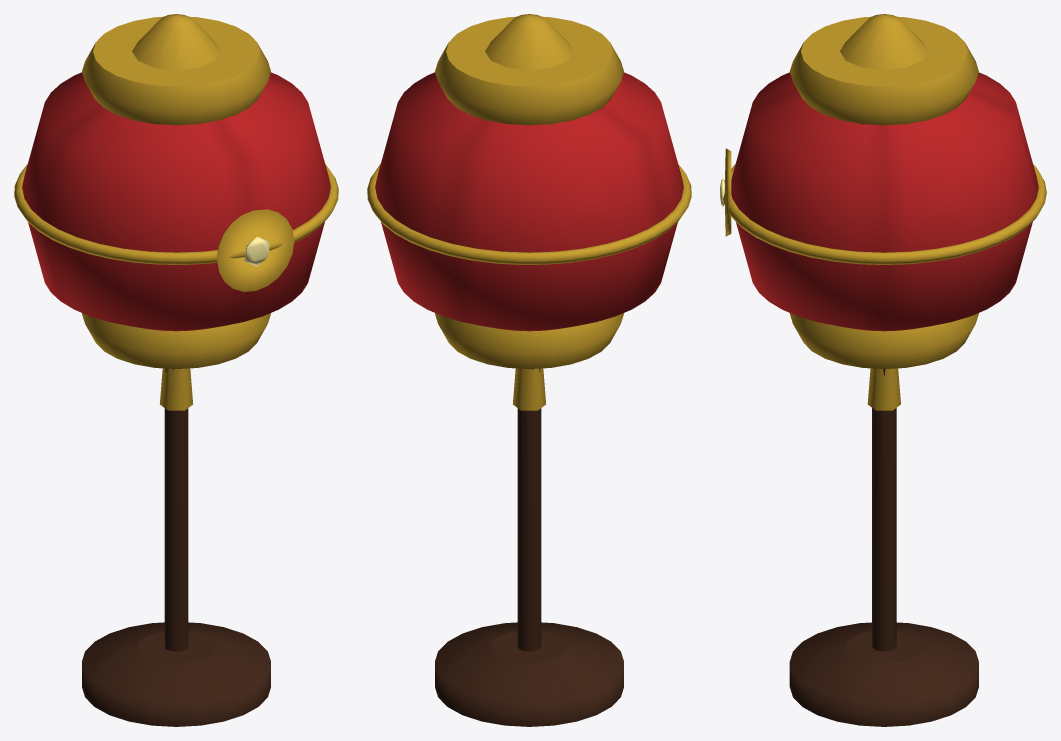
The model's file is furn_lunar_lantern.glb.
3 views of the same model, side by side, from view 1: azimuth 30°, elevation 25°; view 2: azimuth 150°, elevation 25°; view 3: azimuth 270°, elevation 25° (orthographic).
Parts seen in each view (by area): view 1: furn_lunar_lantern_main, furn_lunar_lantern_glow; view 2: furn_lunar_lantern_main; view 3: furn_lunar_lantern_main.
Part boxes in pixels (x1,y1,x2,y2): furn_lunar_lantern_main: (14,14,338,726); furn_lunar_lantern_glow: (244,236,269,266); furn_lunar_lantern_main: (367,14,691,726); furn_lunar_lantern_main: (723,14,1046,726).
Bounding box in the file's own units: 0.584 × 1.33 × 0.5871.
